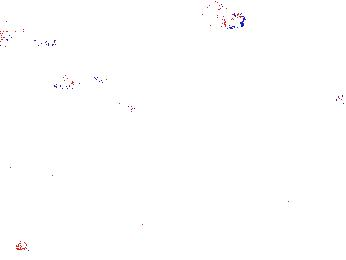X-ray fish: (190, 1, 249, 31)
glassfish: (76, 93, 173, 137), (1, 90, 74, 145)
red belly glassfish: (333, 93, 346, 106)
redtail glassfish: (1, 28, 62, 51), (52, 69, 106, 92)
